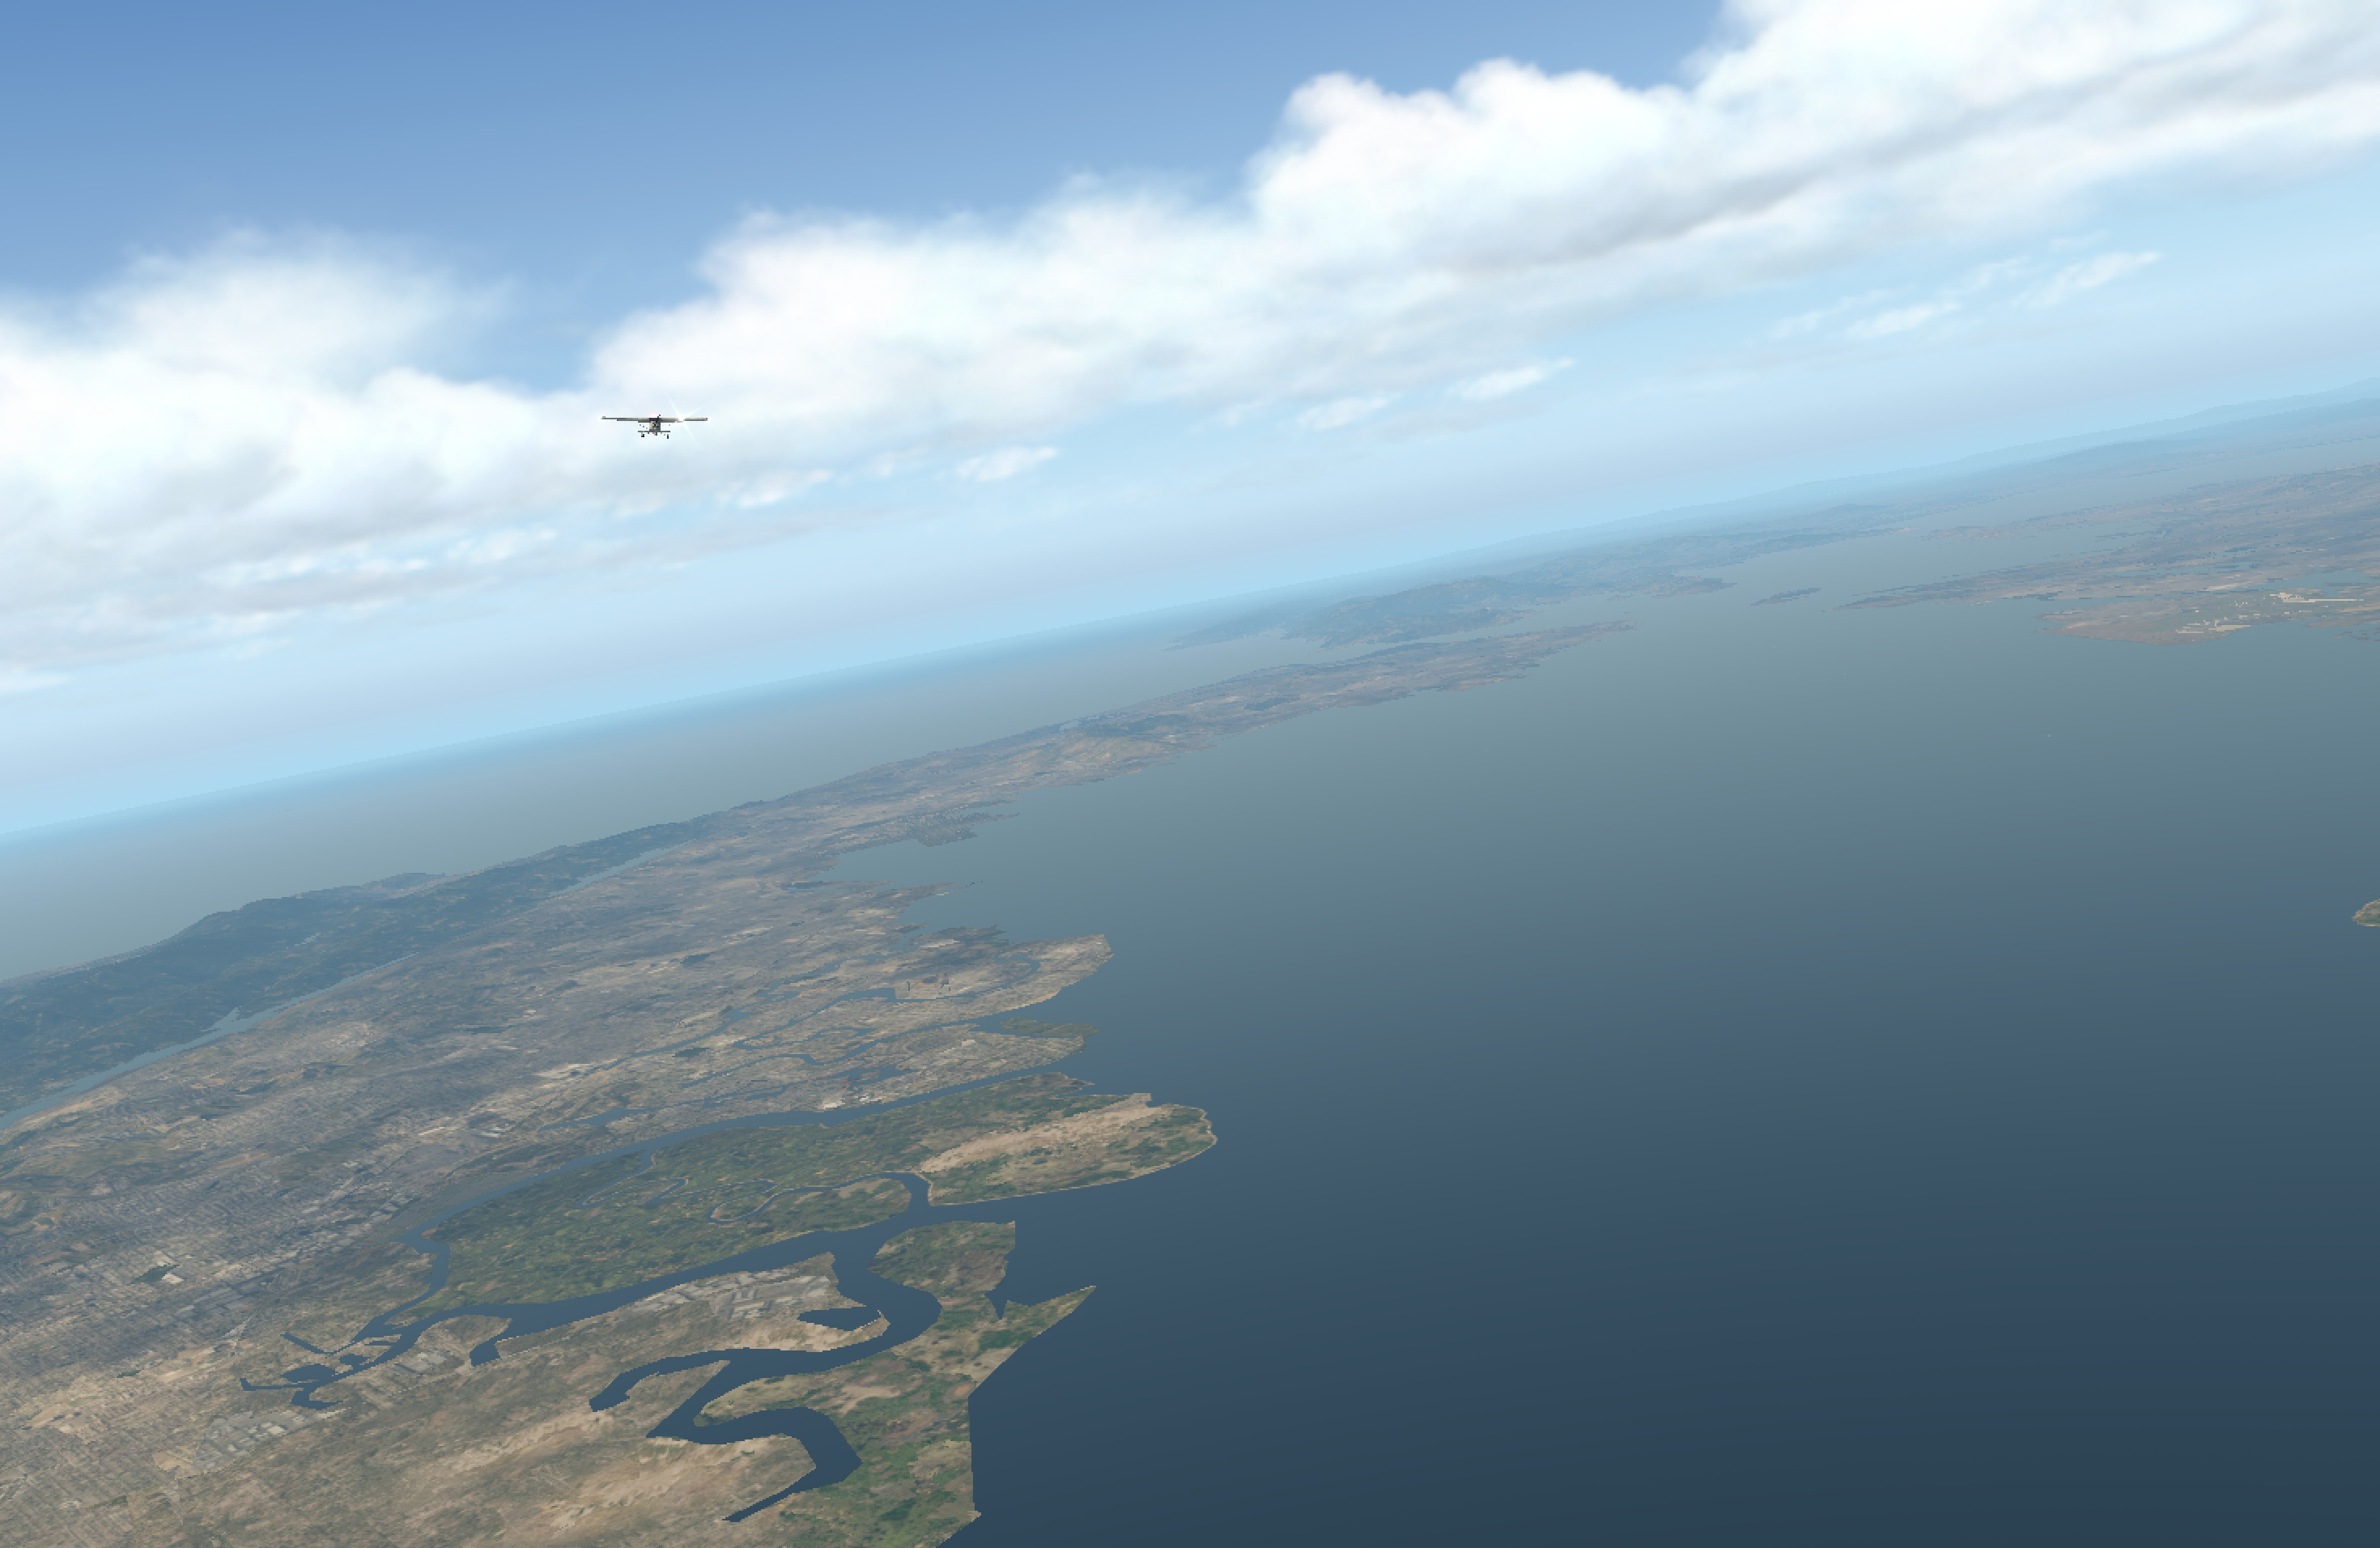aircraft: (619, 411, 690, 439)
